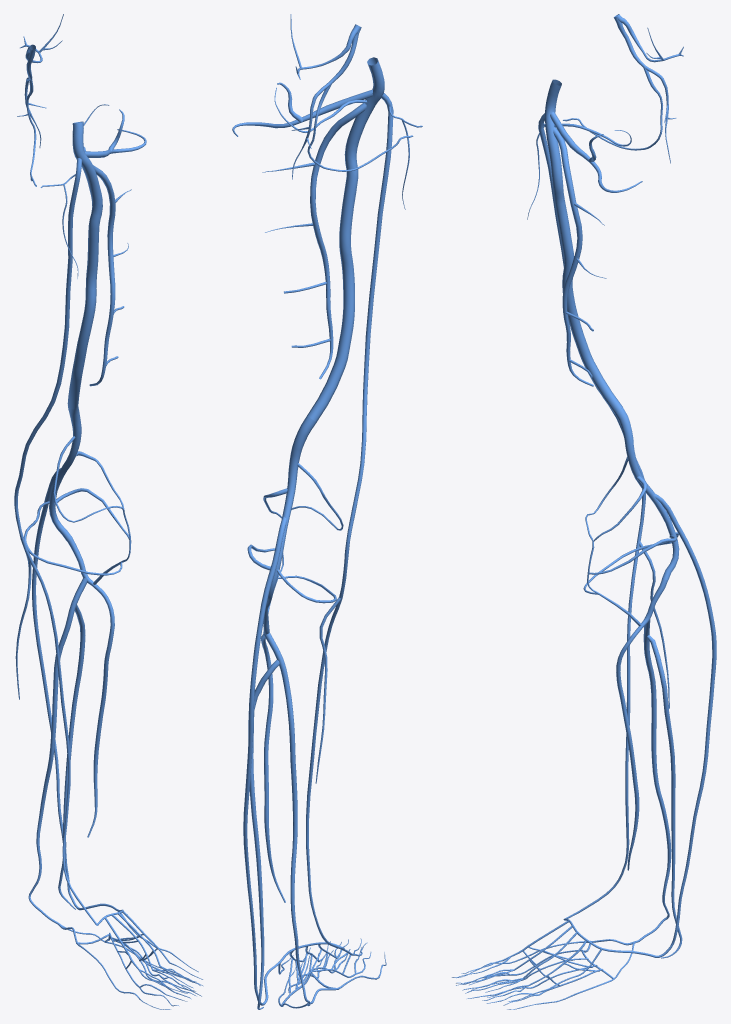
File: veins.glb
3 renders of one model, left to right at view 1: azimuth 30°, elevation 25°; view 2: azimuth 150°, elevation 25°; view 3: azimuth 270°, elevation 25°, orthographic. The views are drawn at different scales.
Parts seen in each view (by area): view 1: Great saphenous vein.l.001, Femoral vein.l.001, Small saphenous vein.l.001, Posterior tibial veins.l.001, Genicular veins.l.001, Anterior tibial veins.l.001, Deep femoral vein.l.001, Fibular veins.l.001, Popliteal vein.l.001, Dorsal metatarsal veins.l.001, Plantar digital veins.l.001, Lateral circumflex femoral veins.l.001 (+1 smaller); view 2: Femoral vein.l.001, Great saphenous vein.l.001, Small saphenous vein.l.001, Posterior tibial veins.l.001, Deep femoral vein.l.001, Fibular veins.l.001, Popliteal vein.l.001, Anterior tibial veins.l.001, Genicular veins.l.001, Lateral circumflex femoral veins.l.001, Inferior gluteal veins.l.001, Internal pudendal vein.l.001 (+2 smaller); view 3: Femoral vein.l.001, Great saphenous vein.l.001, Small saphenous vein.l.001, Posterior tibial veins.l.001, Deep femoral vein.l.001, Fibular veins.l.001, Anterior tibial veins.l.001, Genicular veins.l.001, Popliteal vein.l.001, Plantar digital veins.l.001, Dorsal metatarsal veins.l.001, Lateral circumflex femoral veins.l.001.
Part boxes in pixels (left/top/right/bottom): Great saphenous vein.l.001: left=14, top=158, right=97, bottom=925; Femoral vein.l.001: left=67, top=121, right=102, bottom=408; Small saphenous vein.l.001: left=32, top=468, right=99, bottom=910; Posterior tibial veins.l.001: left=28, top=578, right=87, bottom=924; Genicular veins.l.001: left=23, top=436, right=131, bottom=584; Anterior tibial veins.l.001: left=67, top=538, right=114, bottom=837; Deep femoral vein.l.001: left=89, top=165, right=115, bottom=386; Fibular veins.l.001: left=58, top=605, right=85, bottom=909; Popliteal vein.l.001: left=49, top=405, right=81, bottom=541; Dorsal metatarsal veins.l.001: left=105, top=911, right=174, bottom=970; Plantar digital veins.l.001: left=106, top=942, right=203, bottom=1009; Lateral circumflex femoral veins.l.001: left=84, top=109, right=146, bottom=157; Femoral vein.l.001: left=307, top=57, right=384, bottom=422; Great saphenous vein.l.001: left=306, top=93, right=393, bottom=949; Small saphenous vein.l.001: left=243, top=517, right=286, bottom=1005; Posterior tibial veins.l.001: left=264, top=632, right=310, bottom=1006; Deep femoral vein.l.001: left=310, top=103, right=366, bottom=379; Fibular veins.l.001: left=248, top=660, right=279, bottom=1009; Popliteal vein.l.001: left=266, top=416, right=316, bottom=607; Anterior tibial veins.l.001: left=261, top=606, right=285, bottom=902; Genicular veins.l.001: left=247, top=463, right=343, bottom=632; Lateral circumflex femoral veins.l.001: left=232, top=82, right=372, bottom=136; Inferior gluteal veins.l.001: left=291, top=24, right=361, bottom=179; Internal pudendal vein.l.001: left=307, top=83, right=413, bottom=171; Femoral vein.l.001: left=545, top=79, right=622, bottom=413; Great saphenous vein.l.001: left=538, top=113, right=669, bottom=918; Small saphenous vein.l.001: left=634, top=493, right=716, bottom=957; Posterior tibial veins.l.001: left=635, top=619, right=671, bottom=942; Deep femoral vein.l.001: left=553, top=127, right=593, bottom=386; Fibular veins.l.001: left=647, top=635, right=682, bottom=958; Anterior tibial veins.l.001: left=616, top=579, right=667, bottom=870; Genicular veins.l.001: left=583, top=457, right=678, bottom=626; Popliteal vein.l.001: left=615, top=408, right=679, bottom=580; Plantar digital veins.l.001: left=451, top=956, right=614, bottom=1009; Dorsal metatarsal veins.l.001: left=510, top=920, right=601, bottom=991; Lateral circumflex femoral veins.l.001: left=550, top=112, right=642, bottom=192.
Size of the model in its own units: 0.1471 by 0.9496 by 0.2403.
